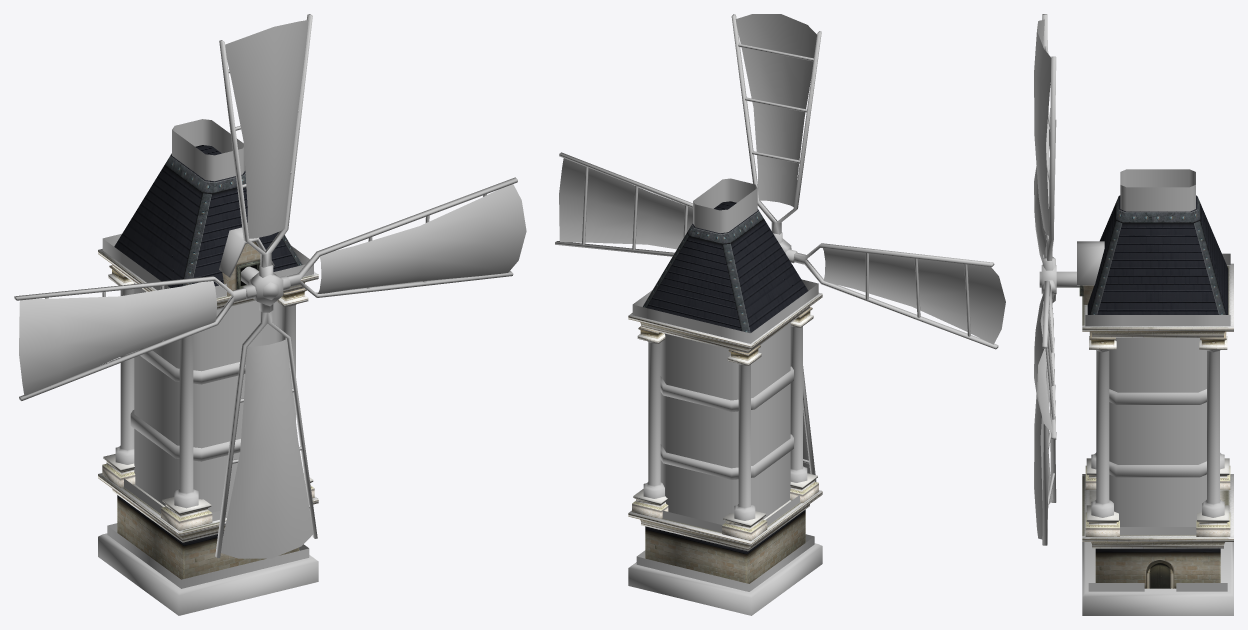
File: windmill_02.fbx
3 views of the same model, side by side, from view 1: azimuth 30°, elevation 25°; view 2: azimuth 150°, elevation 25°; view 3: azimuth 270°, elevation 25° (orthographic). The views are drawn at different scales.
Parts seen in each view (by area): view 1: polySurface13, polySurface10, polySurface12, polySurface11; view 2: polySurface10, polySurface13, polySurface12, polySurface11; view 3: polySurface10, polySurface11, polySurface13, polySurface12.
Part boxes in pixels (left/top/right/bottom): polySurface13: left=19, top=20, right=526, bottom=558; polySurface10: left=98, top=145, right=318, bottom=615; polySurface12: left=14, top=14, right=517, bottom=558; polySurface11: left=102, top=119, right=313, bottom=588; polySurface10: left=628, top=201, right=822, bottom=615; polySurface13: left=559, top=14, right=1005, bottom=473; polySurface12: left=555, top=14, right=998, bottom=481; polySurface11: left=632, top=178, right=818, bottom=591; polySurface10: left=1077, top=195, right=1233, bottom=615; polySurface11: left=1085, top=169, right=1230, bottom=591; polySurface13: left=1034, top=19, right=1053, bottom=539; polySurface12: left=1039, top=14, right=1079, bottom=545.
Size of the model in its own units: 19.49 by 21.62 by 7.08.
